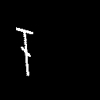double_crochet: (16, 28, 32, 75)
